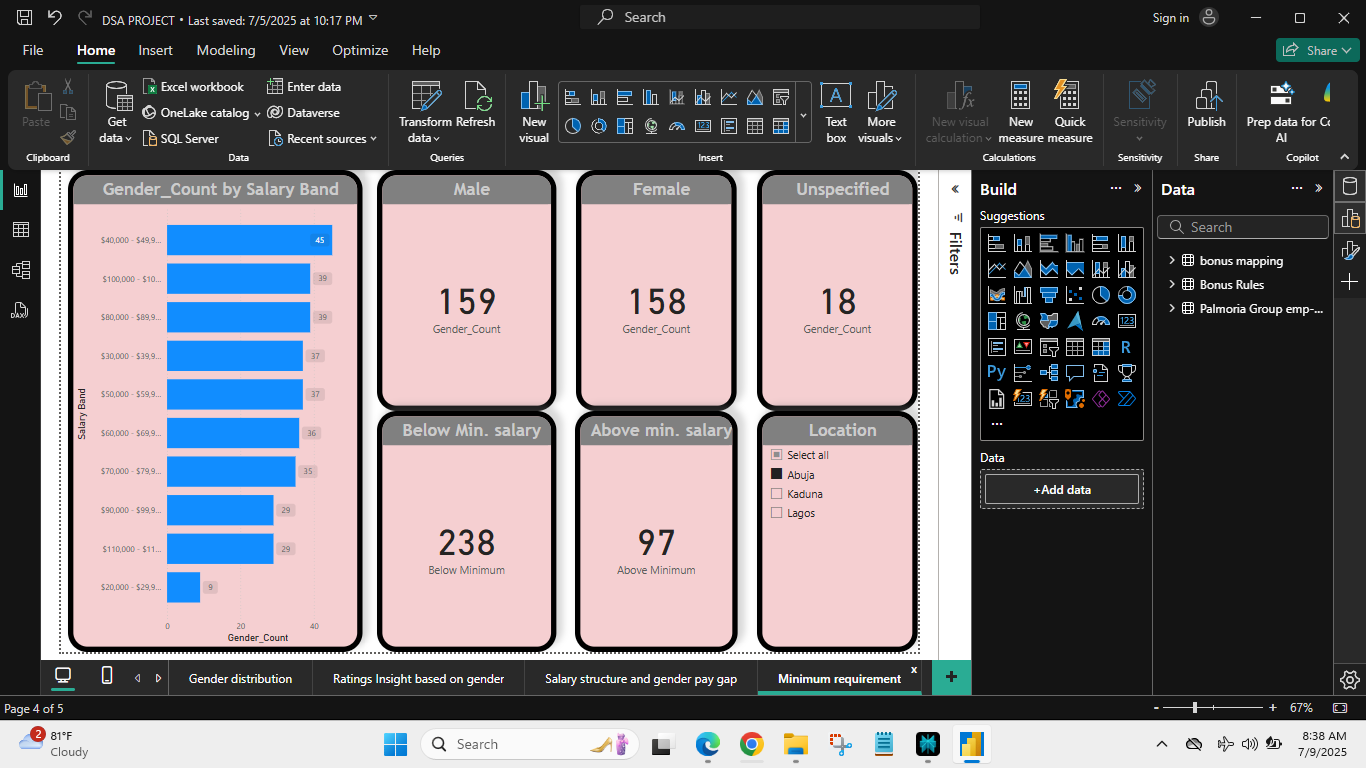

What the dashboard file says about the page in this screenshot:
{"tool":"powerbi","page":{"name":"Minimum requirement","canvas":[1280,720],"ordinal":3},"visuals":[{"type":"barChart","fields":{"Category":["Palmoria Group emp-data.Salary Band"],"Y":["Palmoria Group emp-data.Gender_Count"]},"box":[10,0,440,720],"z":0},{"type":"card","title":"Male","fields":{"Values":["Palmoria Group emp-data.Gender_Count"]},"box":[472.5,0,267.5,360],"z":1000},{"type":"card","title":"Female","fields":{"Values":["Palmoria Group emp-data.Gender_Count"]},"box":[770,0,240,360],"z":2000},{"type":"card","title":"Unspecified","fields":{"Values":["Palmoria Group emp-data.Gender_Count"]},"box":[1040,0,240,360],"z":3000},{"type":"card","title":"Below Min. salary","fields":{"Values":["Palmoria Group emp-data.Below Minimum"]},"box":[472.5,360,267.5,360],"z":4000},{"type":"card","title":"Above min. salary","fields":{"Values":["Palmoria Group emp-data.Above Minimum"]},"box":[767.5,360,242.5,360],"z":5000},{"type":"slicer","title":"Location","fields":{"Values":["Palmoria Group emp-data.Location"]},"box":[1040,360,240,360],"z":6000}]}

Visuals, with their boxes on the page's 1280x720 design canvas (x1, y1, x2, y2). These are canvas units, not pixel positions in the 1366x768 screenshot, which may show the page scaled, cropped or inside an application window:
barChart - Palmoria Group emp-data.Salary Band x Palmoria Group emp-data.Gender_Count: bbox(10, 0, 450, 720)
"Male" card: bbox(472, 0, 740, 360)
"Female" card: bbox(770, 0, 1010, 360)
"Unspecified" card: bbox(1040, 0, 1280, 360)
"Below Min. salary" card: bbox(472, 360, 740, 720)
"Above min. salary" card: bbox(768, 360, 1010, 720)
"Location" slicer: bbox(1040, 360, 1280, 720)
